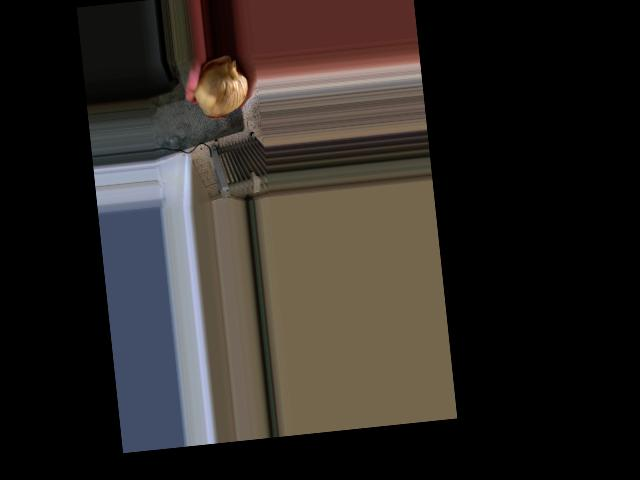onion: (192, 57, 254, 122)
